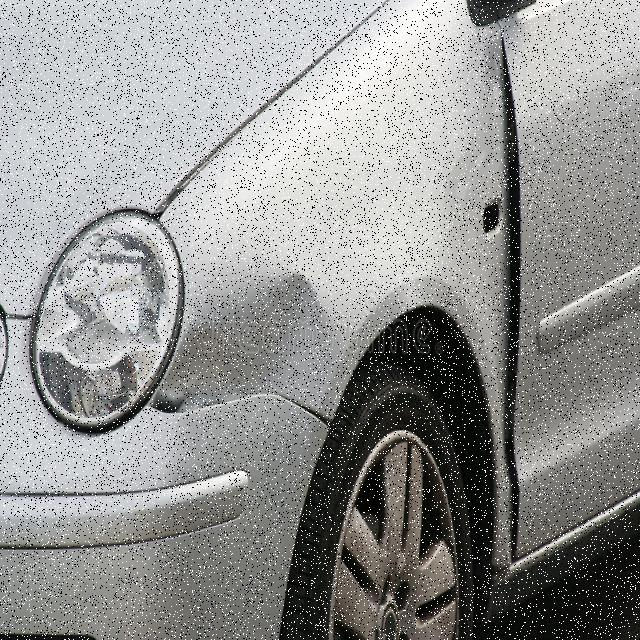fender-dent: (155, 96, 522, 500)
